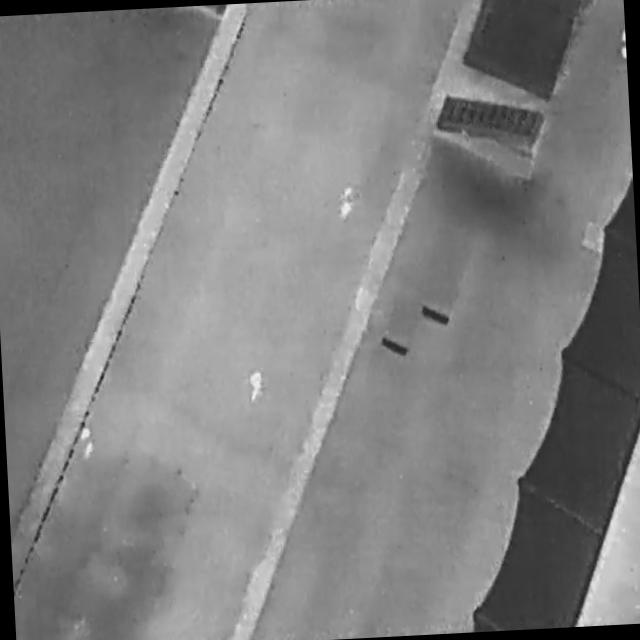person: (336, 183, 360, 224), (247, 367, 269, 408), (80, 425, 96, 461)
